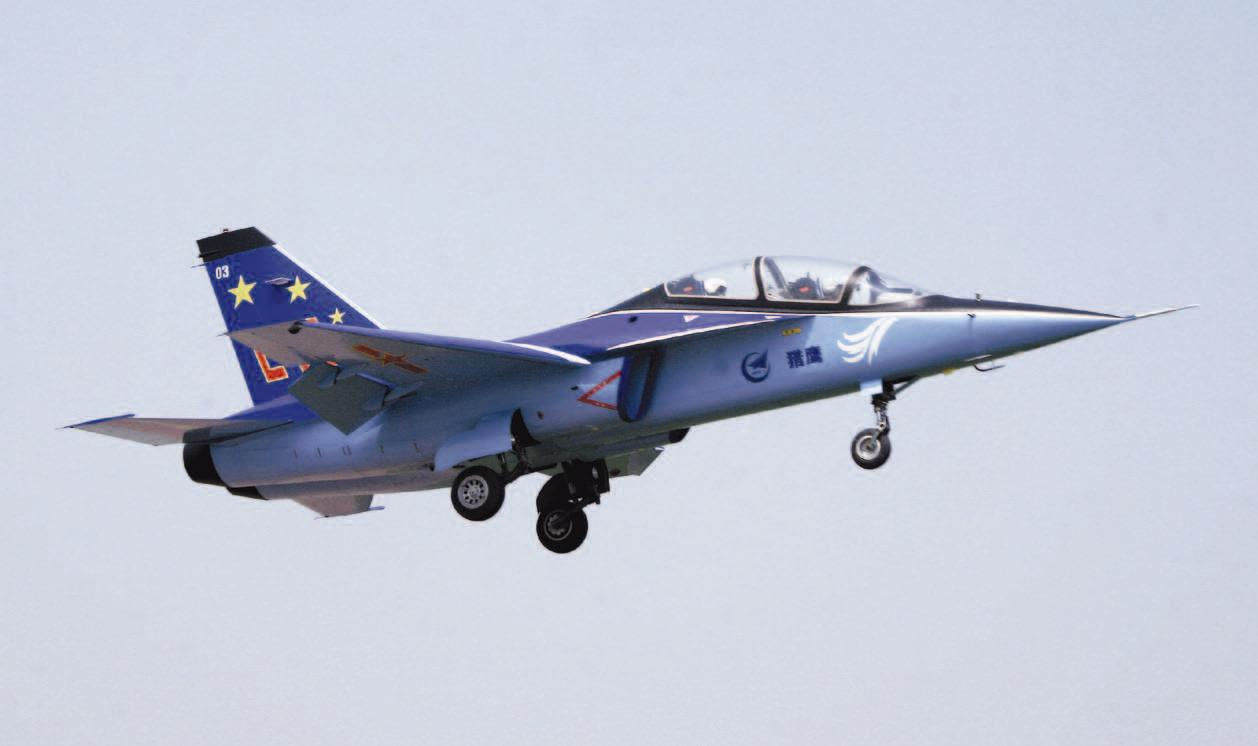airplane: (54, 220, 1184, 557)
